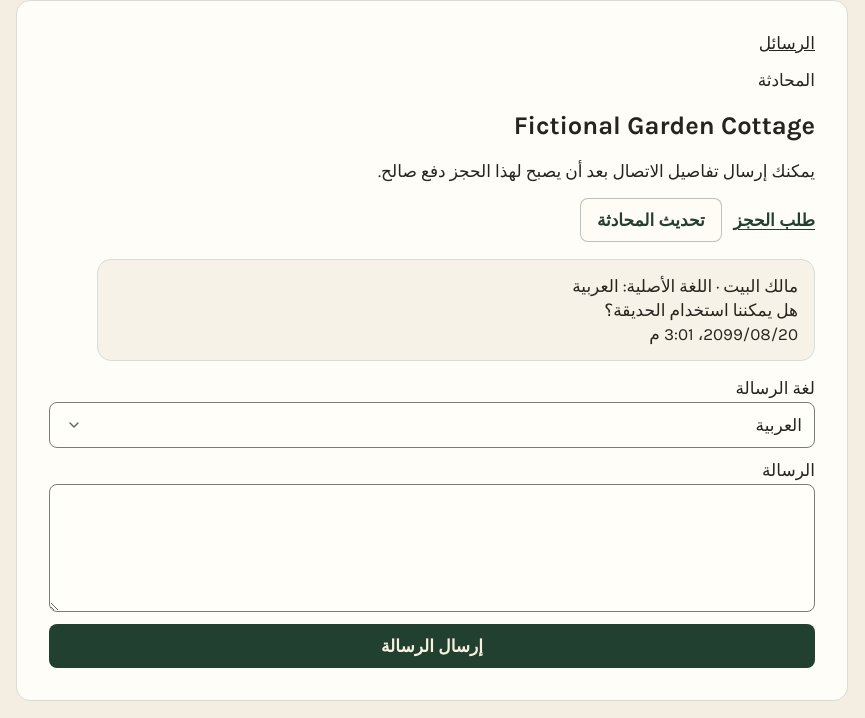
Test: Messaging conversation › becomes explicitly read-only after a suspended send in ar
The image size is (865, 718).
Expected: the link "طلب الحجز" is shown, top-left (734, 210), bottom-right (815, 230)
Type "A safe question" into the text box. click: (432, 548)
box: top-left (49, 484), bottom-right (815, 612)
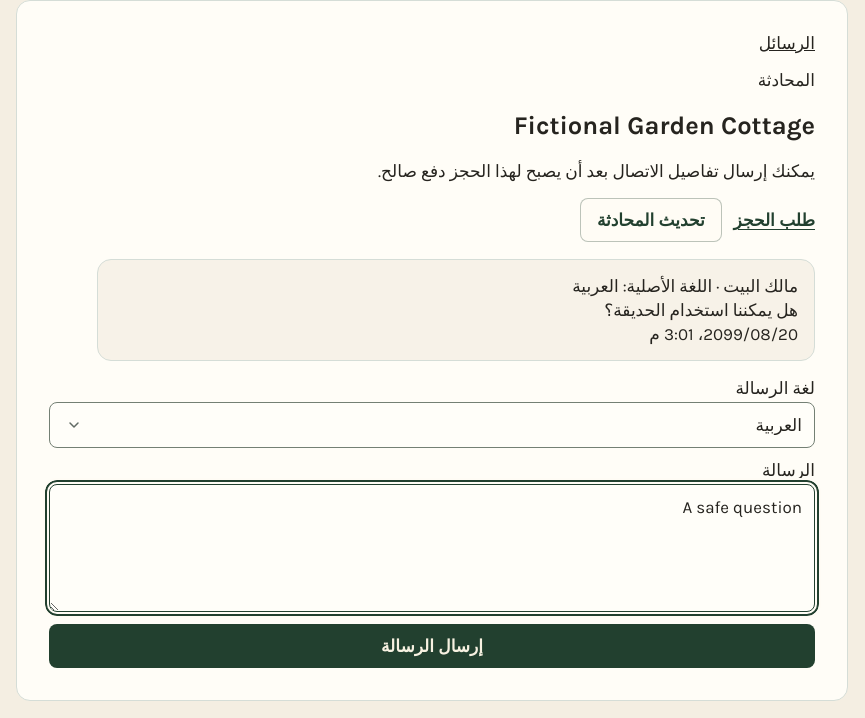
Click the button "إرسال الرسالة". click: (432, 646)
box: top-left (49, 624), bottom-right (815, 668)
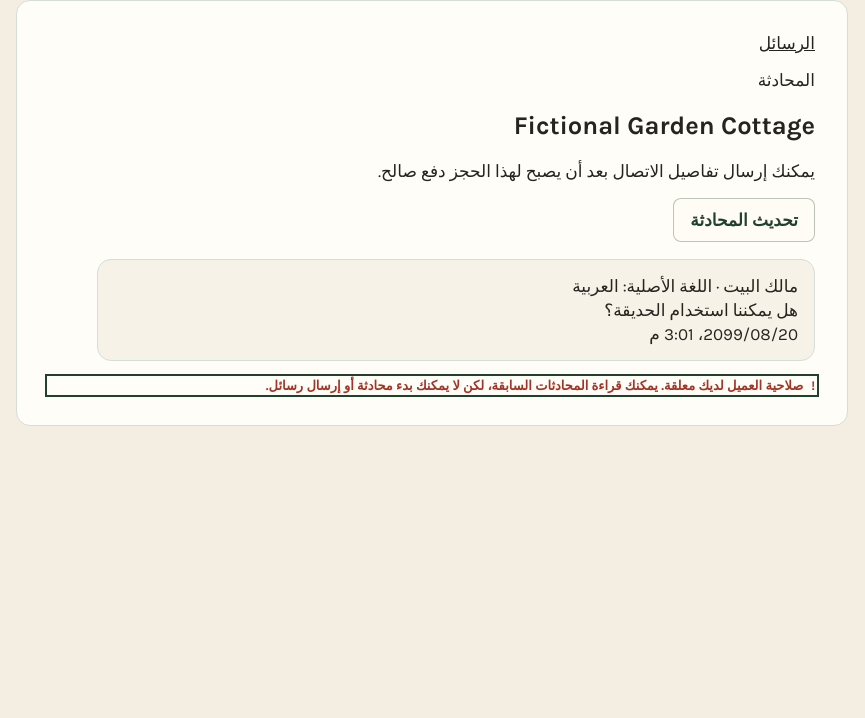
Expected: the button "تحديث المحادثة" is enabled, top-left (673, 198), bottom-right (815, 242)
Now the message shows "صلاحية العميل لديك معلقة. يمكنك قراءة المحادثات السابقة، لكن لا يمكنك بدء محادثة أو إرسال رسائل.", box top-left (266, 378), bottom-right (803, 393)
Now the link "طلب الحجز" is gone
